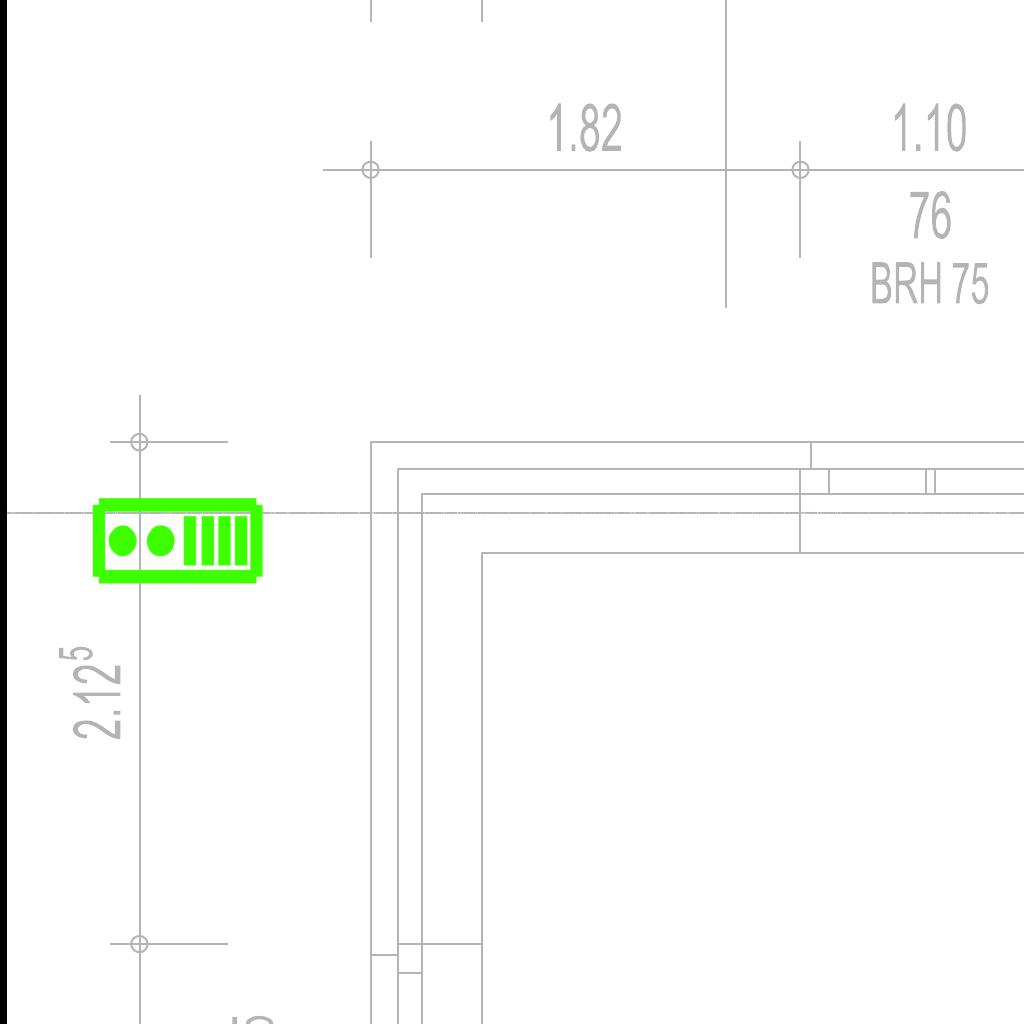Gegensprechanlage_mit_Video: (89, 495, 265, 590)
